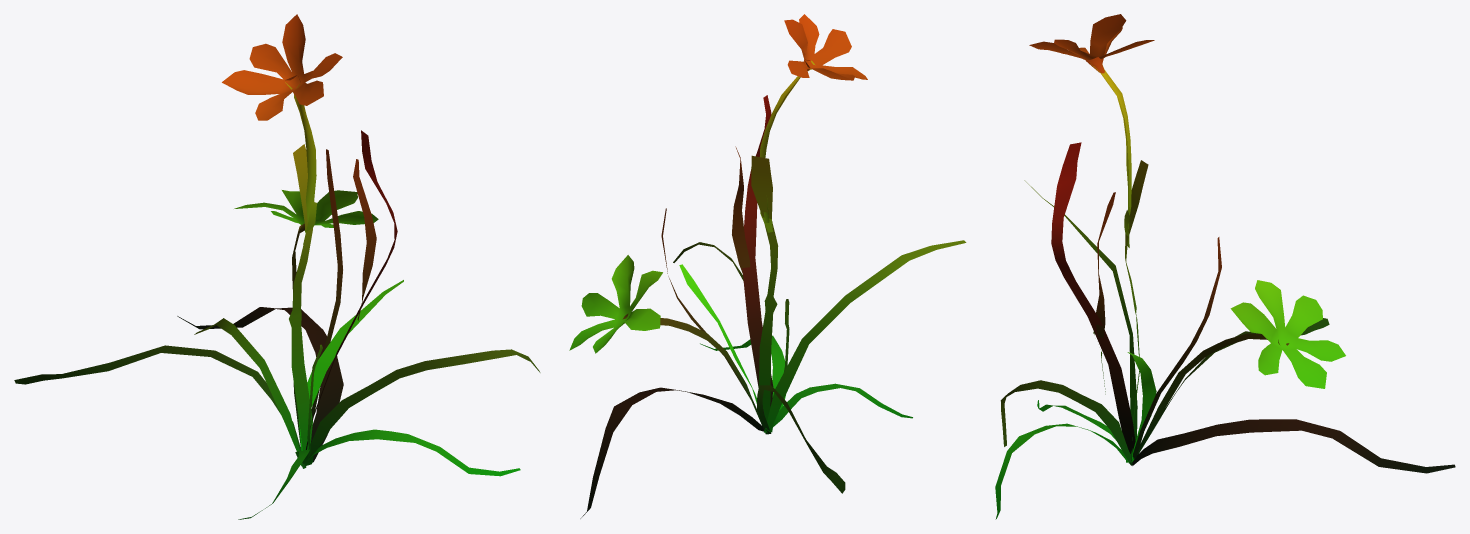
File: SM_OW_Flower_a_LOD1.fbx
3 renders of one model, left to right at view 1: azimuth 30°, elevation 25°; view 2: azimuth 150°, elevation 25°; view 3: azimuth 270°, elevation 25°, orthographic. The views are drawn at different scales.
Visible parts, largest first — view 1: SM_OW_Flower_a_LOD1; view 2: SM_OW_Flower_a_LOD1; view 3: SM_OW_Flower_a_LOD1.
Part boxes in pixels (x1,y1,x2,y2): SM_OW_Flower_a_LOD1: (14,14,540,519); SM_OW_Flower_a_LOD1: (569,14,966,518); SM_OW_Flower_a_LOD1: (995,14,1455,519).
Bounding box in the file's own units: 0.2174 × 0.2671 × 0.2505.
